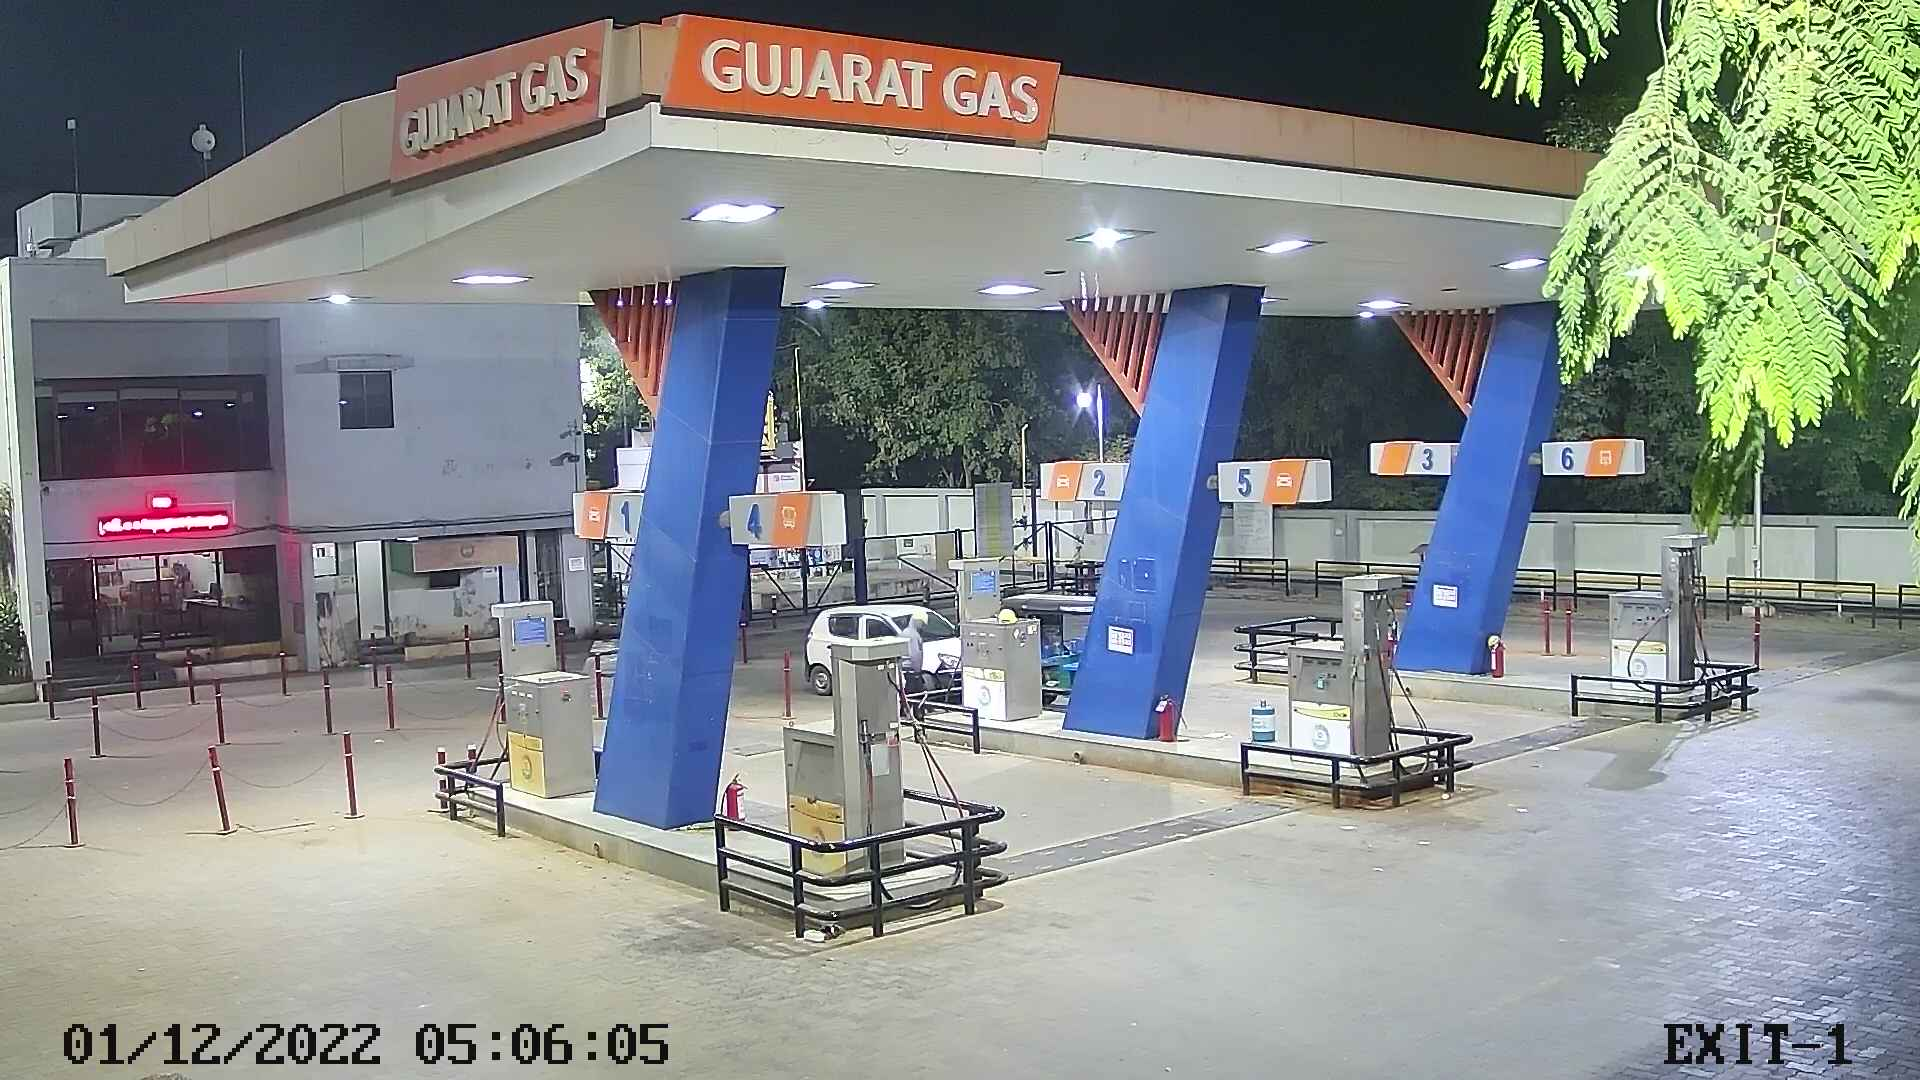Auto: (989, 579, 1104, 716)
Car: (793, 591, 967, 720)
Others: (889, 603, 936, 735)
